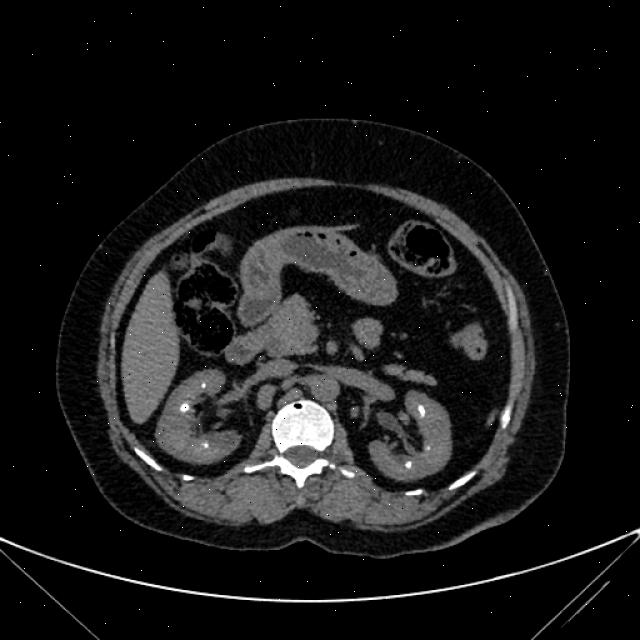kidneystone: (418, 404, 426, 418), (180, 402, 190, 412), (200, 441, 209, 448), (405, 461, 412, 468), (425, 444, 430, 451), (201, 382, 205, 388)
